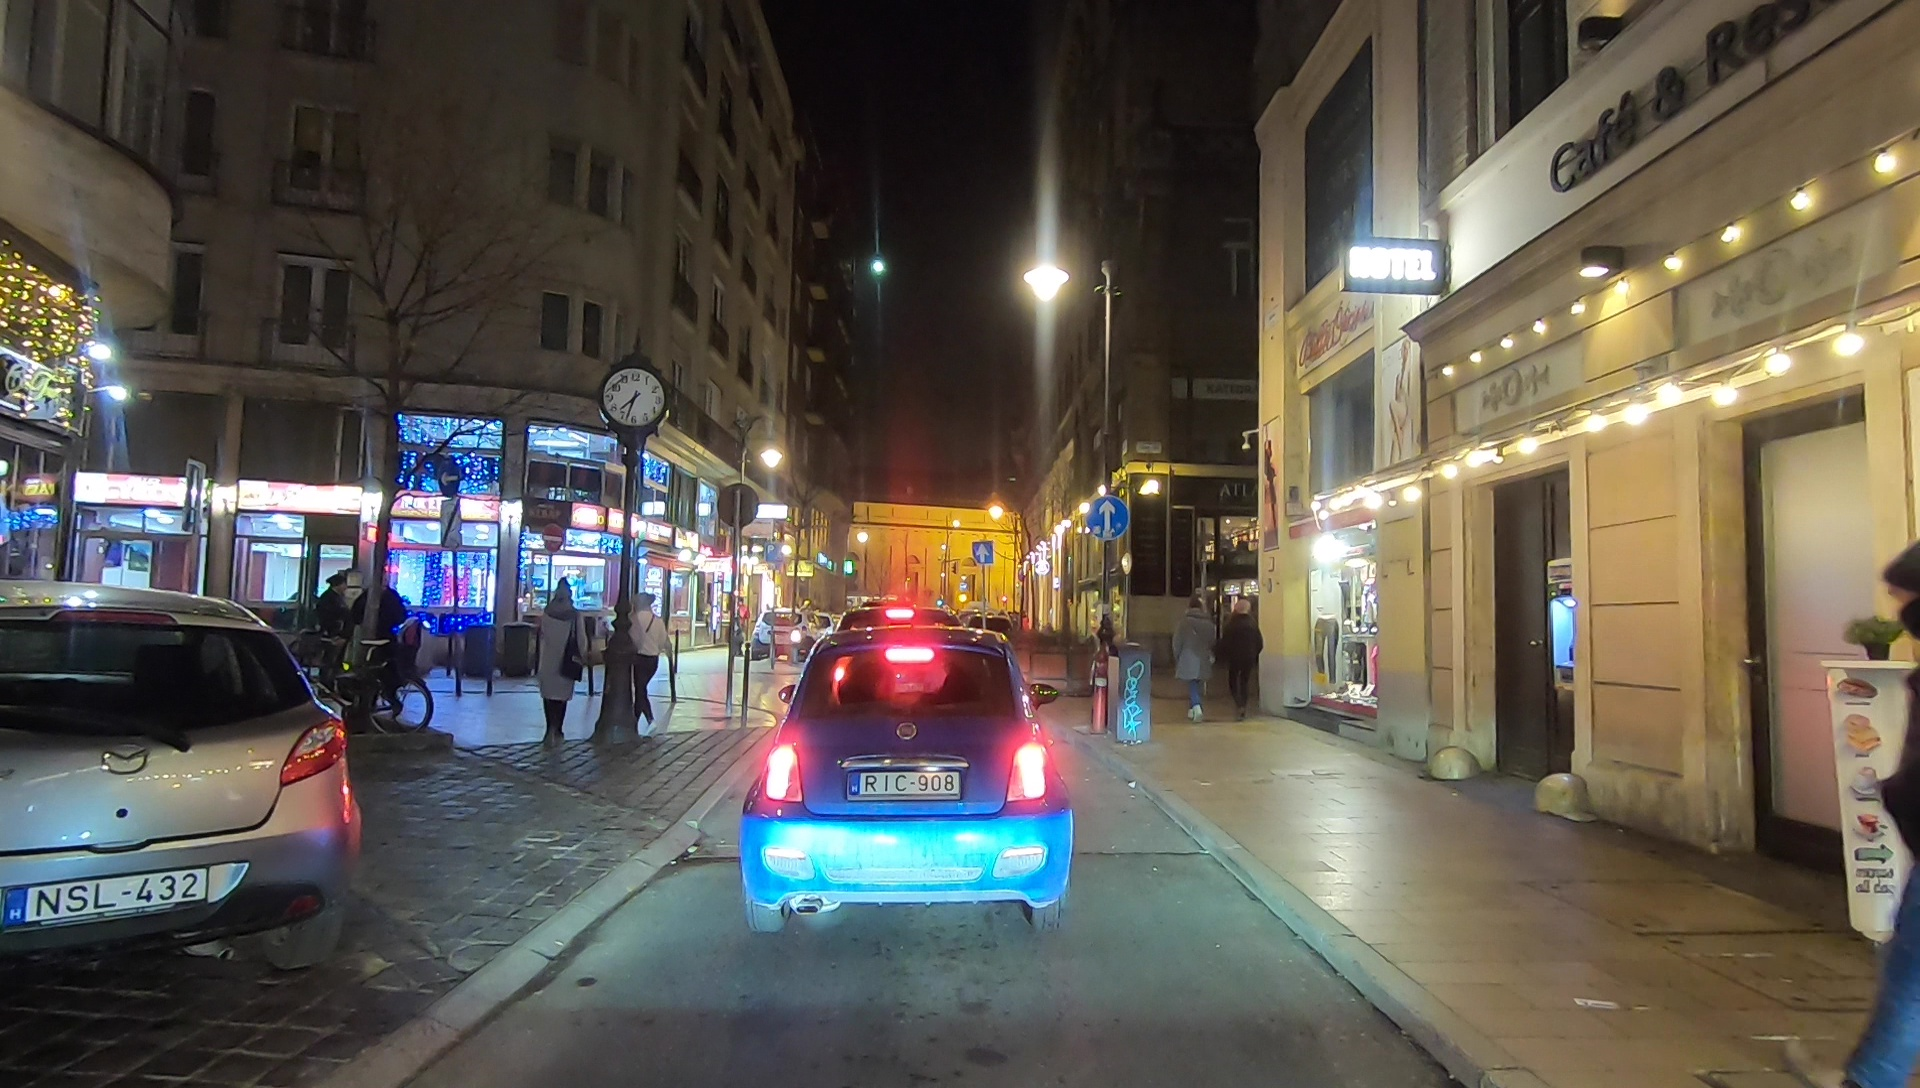person: (1841, 521, 1918, 1088), (528, 576, 588, 743), (352, 569, 408, 700), (1175, 591, 1212, 723), (630, 599, 669, 721), (315, 571, 351, 702), (1223, 600, 1260, 719)
